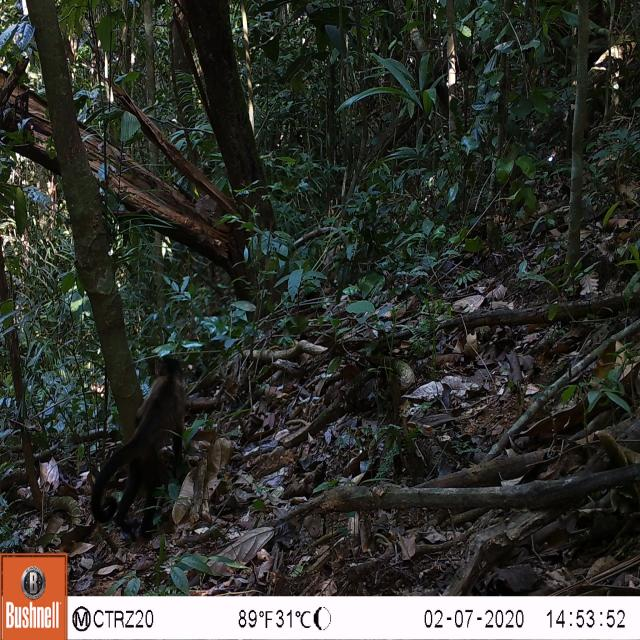Margarita Island Capuchin: (81, 341, 207, 551)
